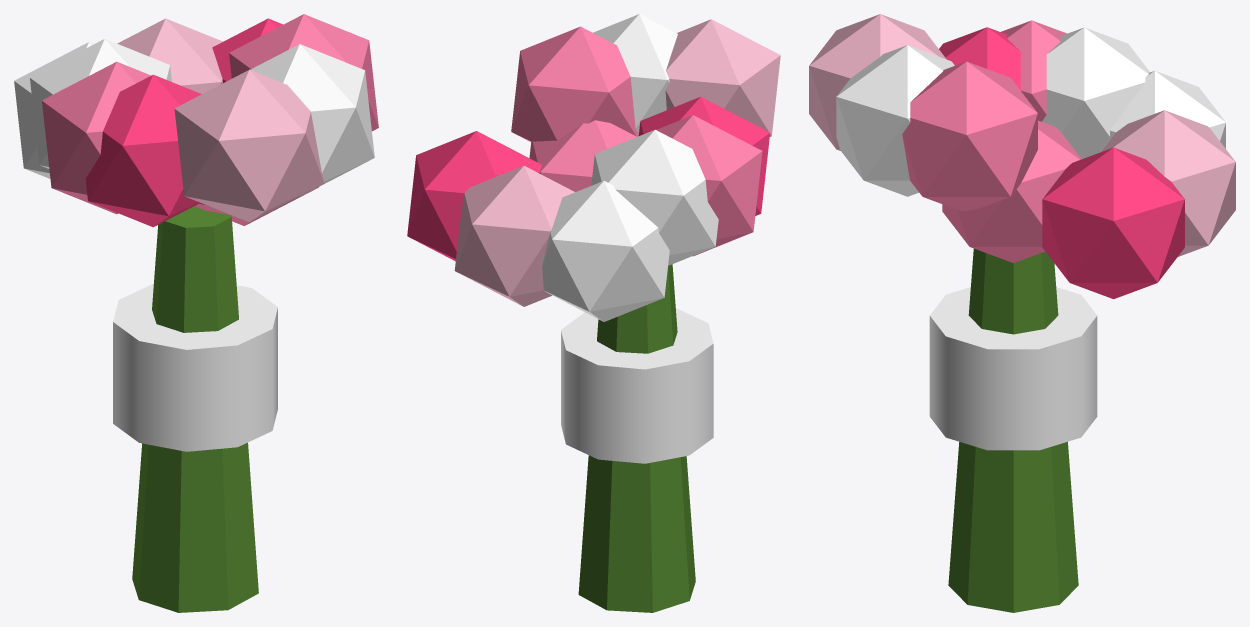
File: foot_bouquet.glb
3 renders of one model, left to right at view 1: azimuth 30°, elevation 25°; view 2: azimuth 150°, elevation 25°; view 3: azimuth 270°, elevation 25°, orthographic. The views are drawn at different scales.
Visible parts, largest first — view 1: FootBouquet_body; view 2: FootBouquet_body; view 3: FootBouquet_body.
Part boxes in pixels (x1,y1,x2,y2): FootBouquet_body: (14, 14, 378, 612); FootBouquet_body: (407, 14, 780, 612); FootBouquet_body: (809, 14, 1235, 612).
Bounding box in the file's own units: 0.1993 × 0.335 × 0.2293.
